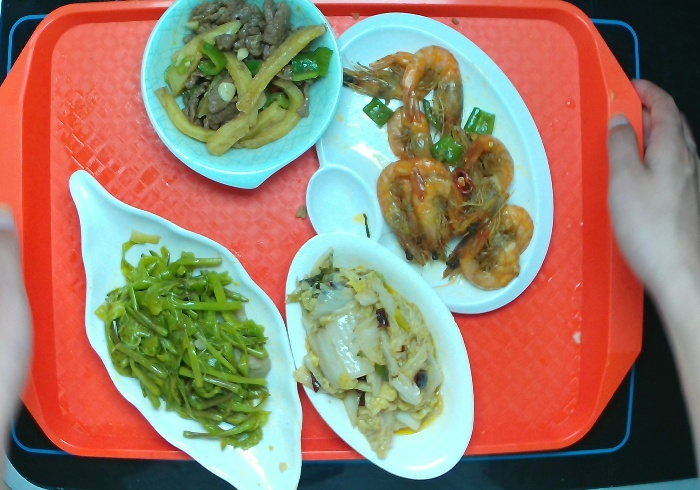RJxy-Bai_Se_Tuo_Yuan: (285, 232, 481, 484)
RJxy-Shu_Ye_Pan: (64, 165, 304, 490)
RJxy-Xiao_Jiao_Yuan_Wan: (136, 1, 344, 194)
RJxy-Zhan_Liao_Pan: (303, 10, 555, 319)
